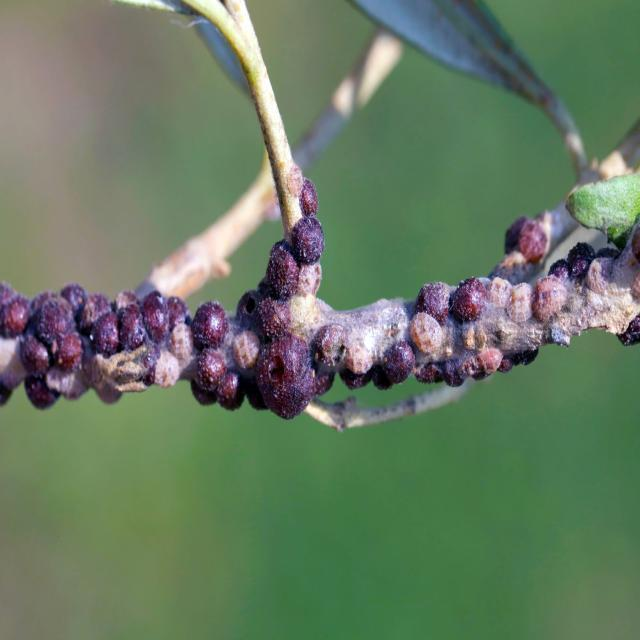BlackScale: (20, 284, 111, 408), (143, 290, 193, 388), (256, 334, 314, 418), (314, 322, 374, 389), (488, 276, 567, 322), (190, 348, 244, 410), (90, 292, 142, 356), (237, 282, 291, 332), (505, 212, 551, 270), (264, 239, 300, 299), (191, 301, 228, 350), (0, 282, 30, 336), (451, 276, 486, 322), (291, 217, 323, 266), (465, 348, 512, 381), (409, 311, 443, 355), (382, 340, 414, 386), (415, 360, 469, 387), (416, 282, 446, 326), (232, 330, 260, 370), (567, 243, 594, 281), (299, 178, 319, 216), (288, 164, 300, 196)
